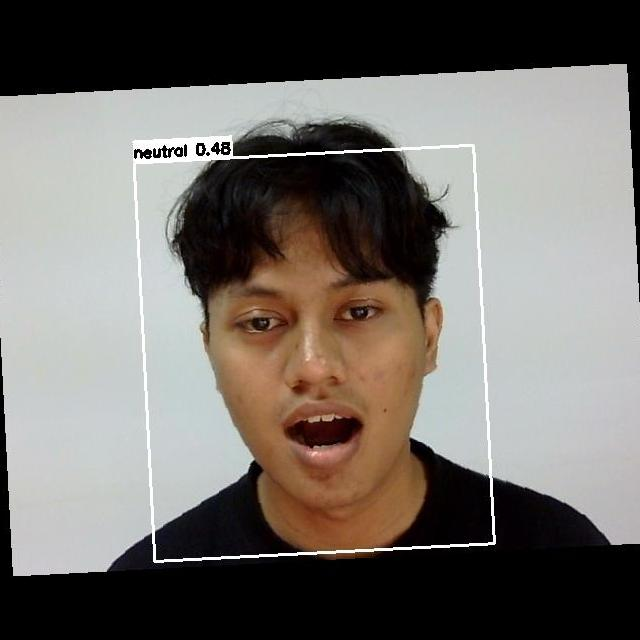Surprised: (211, 261, 419, 487)
